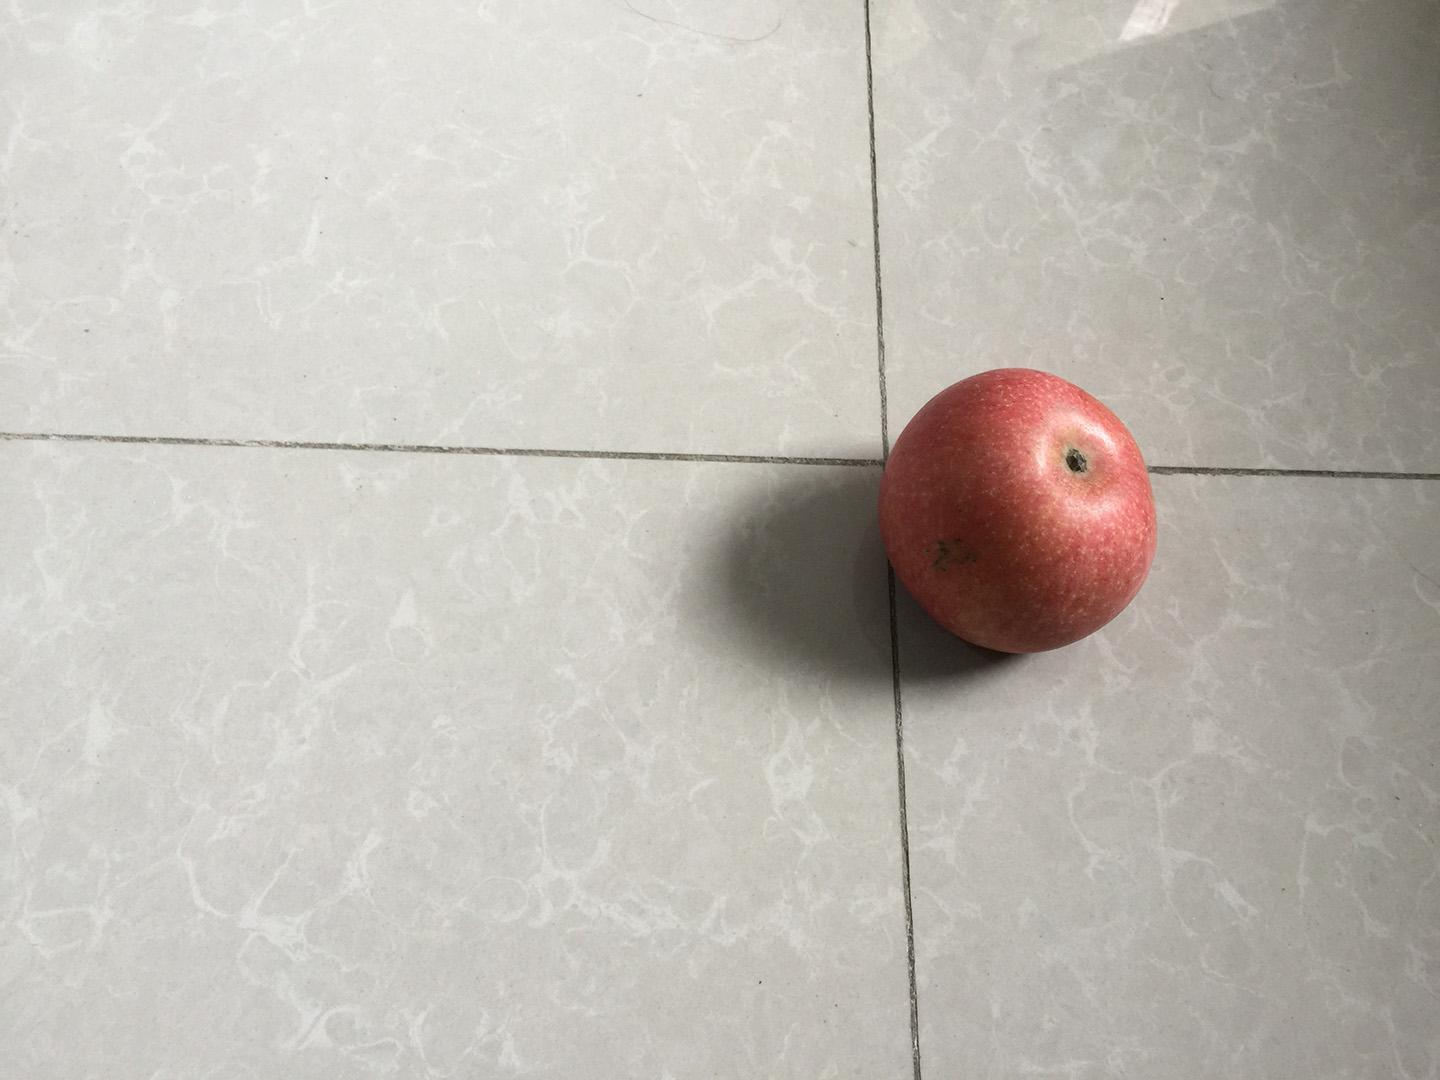apple: (864, 358, 1166, 670)
